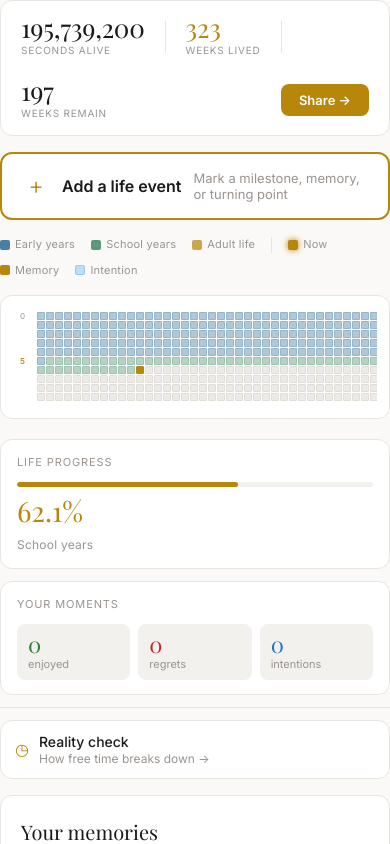
Test: Grid — add-by-date modal › shows intention field for a future date
Click the button "Add a life event" at (195, 186), box [0,152,389,220]
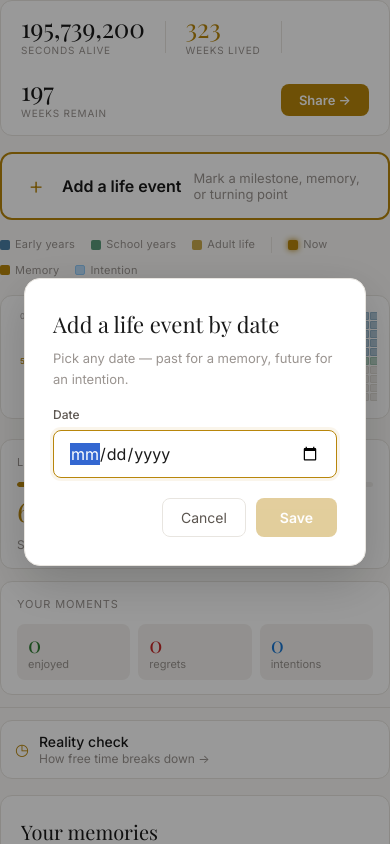
Type "2028-01-01" into the date field at (195, 454), box [53,430,337,478]
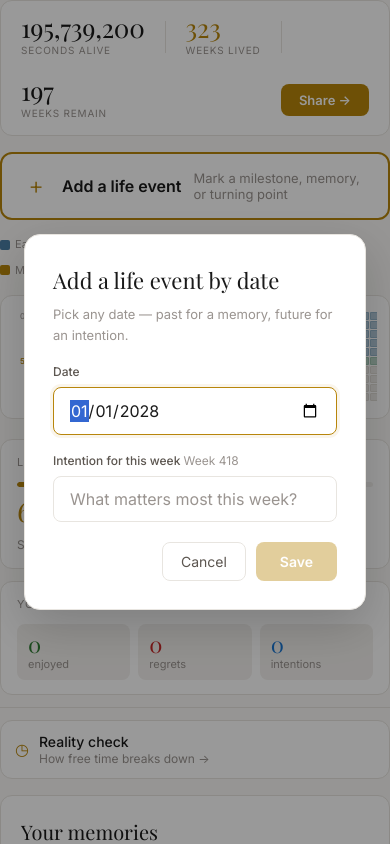
expect the field with placeholder "What matters most this week?" is shown: met, box [53,476,337,522]
